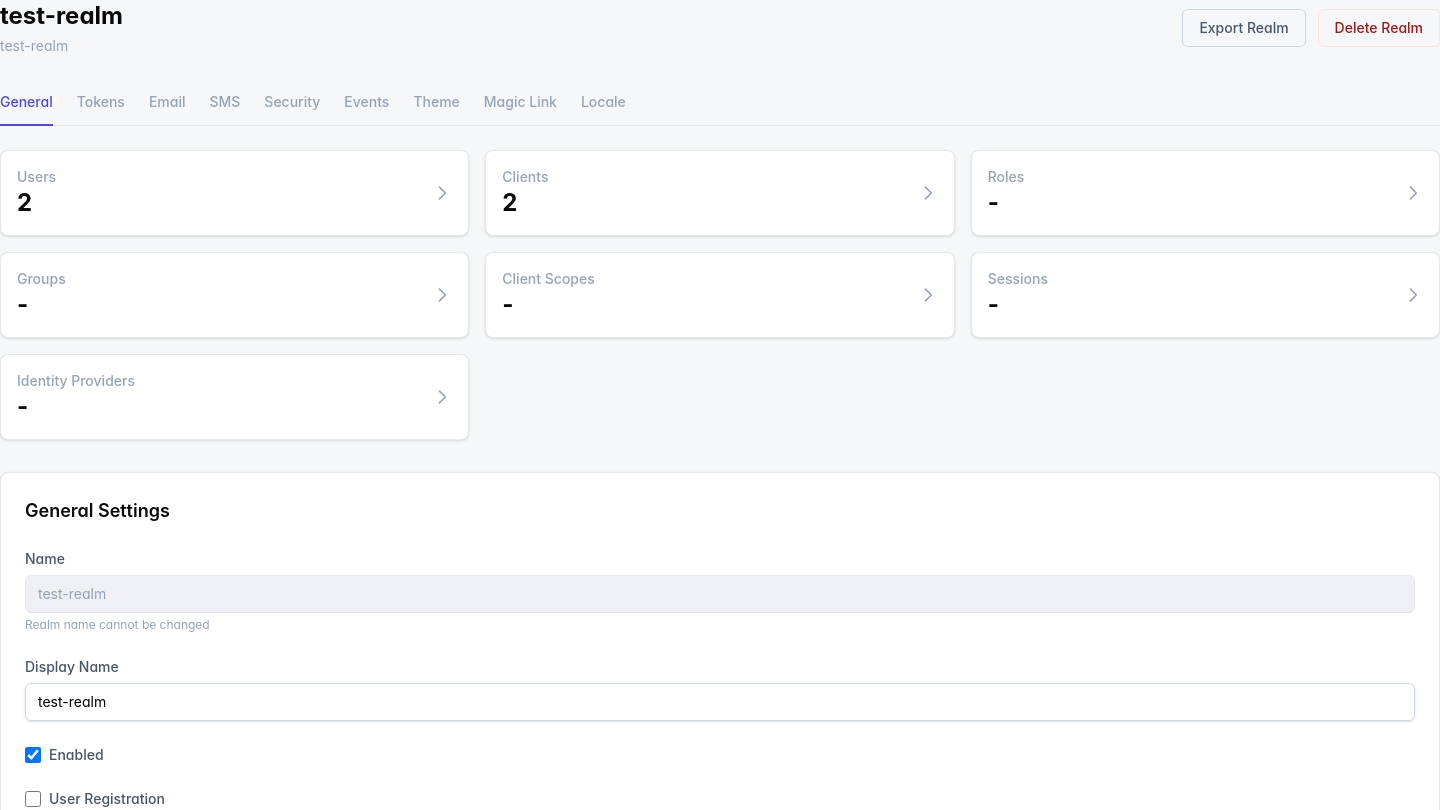
RealmDetailPage › switches to the Locale tab
The image size is (1440, 810).
Expected: the heading "General Settings" is shown, [25,500,170,521]
What coordinates should you click on to do the following:
click the button "Locale"
I would click on:
 (603, 103)
Its box is [581,80,626,126].
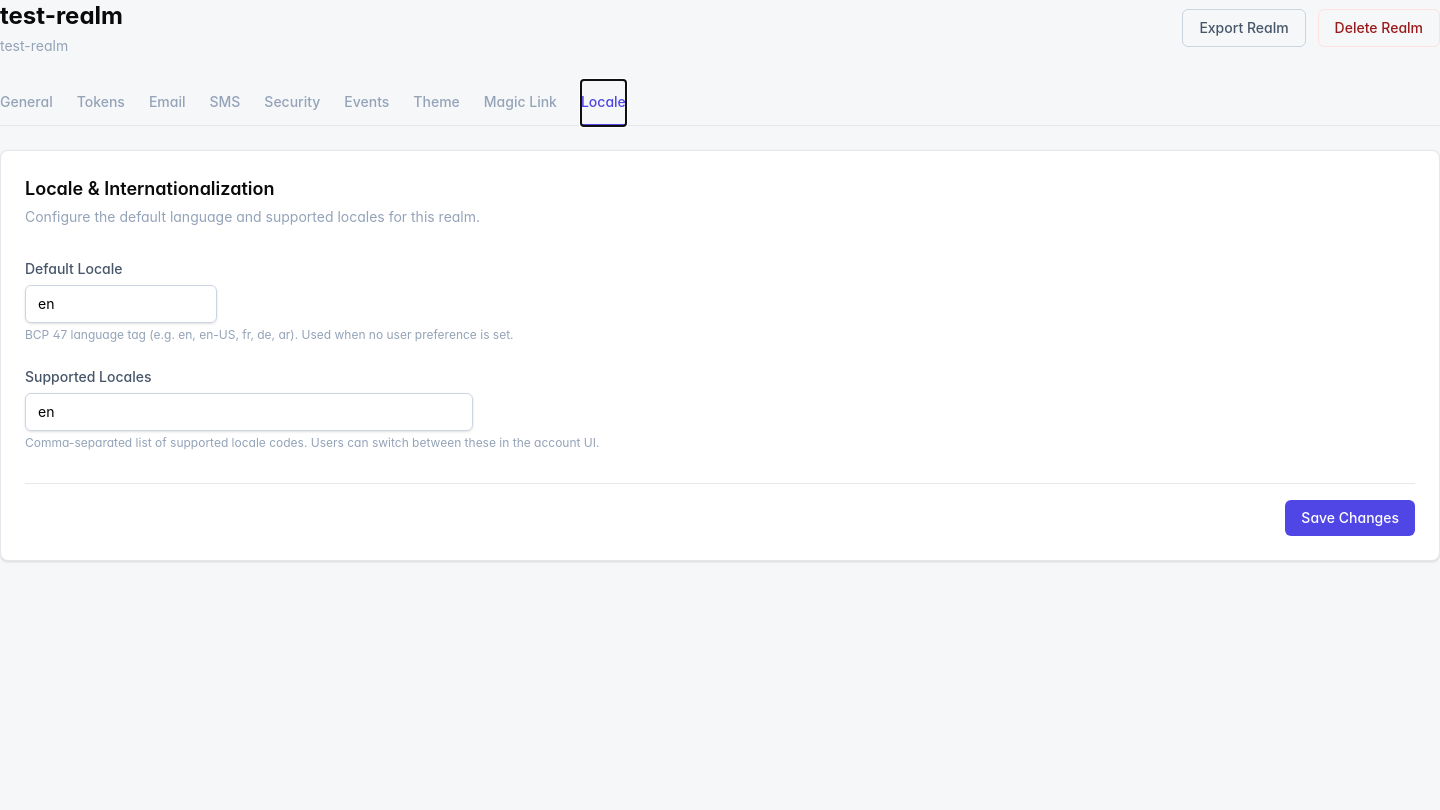
Expected: the heading "Locale & Internationalization" is shown, [25,178,274,199]
